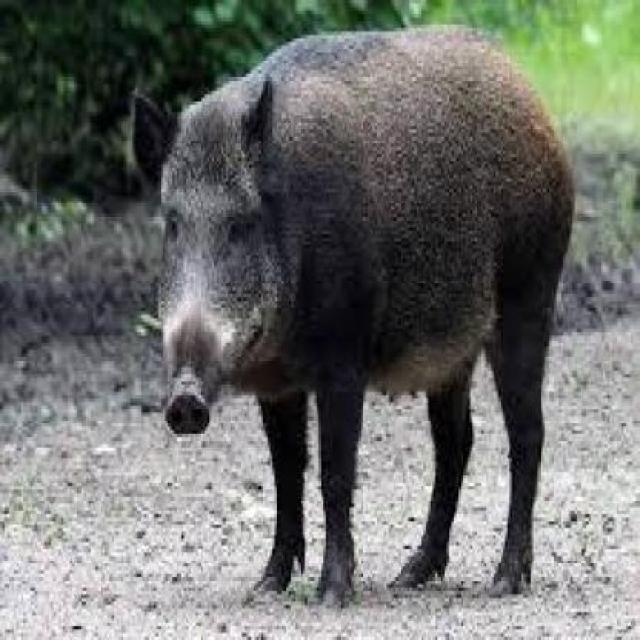wildboar: (123, 18, 586, 622)
